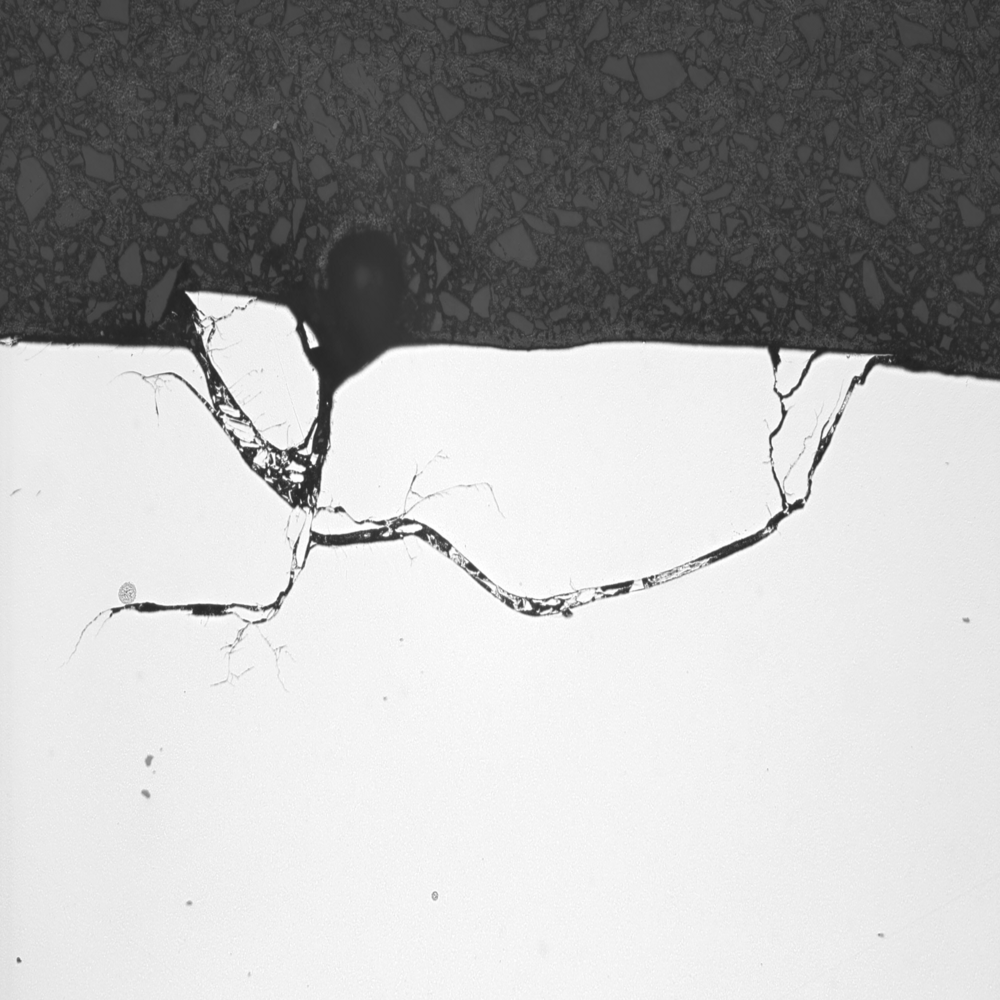crack: (59, 316, 910, 693)
